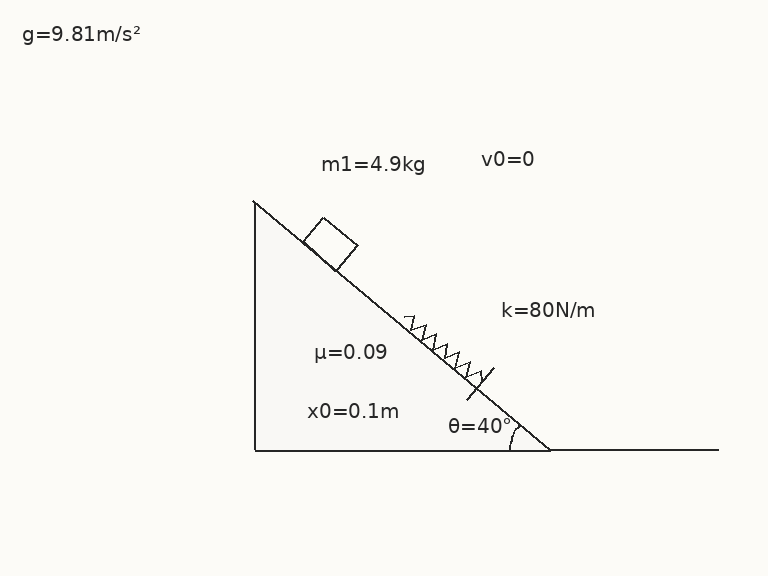block: (300, 215, 359, 272)
ramp: (252, 199, 552, 452)
spring: (403, 313, 484, 383)
